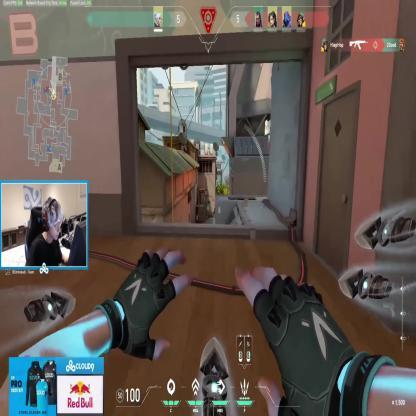enemy: (212, 203, 215, 218)
enemy_head: (214, 203, 216, 207)
